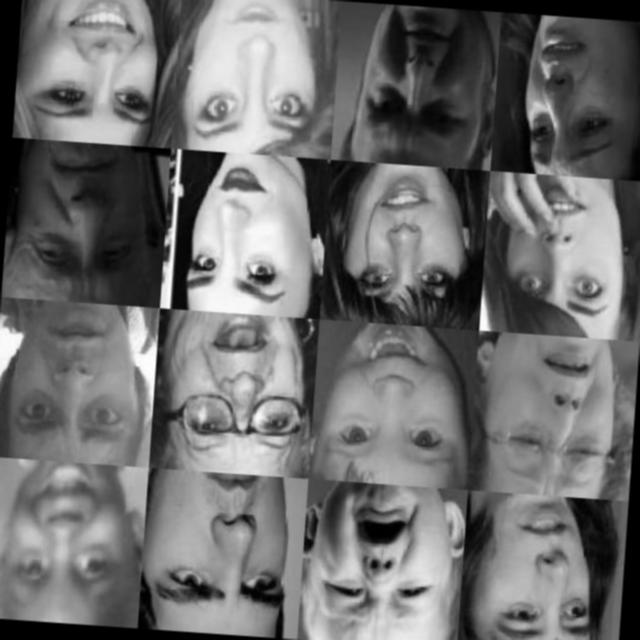angry: (149, 472, 298, 624), (358, 5, 483, 156)
fear: (501, 176, 626, 329), (10, 307, 140, 452)
happy: (316, 322, 468, 485), (172, 314, 315, 466), (2, 461, 130, 612), (29, 0, 167, 139), (340, 168, 472, 312), (180, 160, 302, 310)
neutral: (188, 0, 326, 154)
sad: (308, 490, 448, 638), (18, 146, 152, 294), (491, 338, 618, 492), (510, 18, 633, 175), (483, 501, 606, 640)
